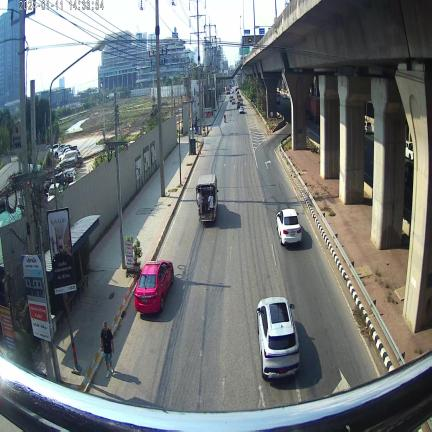car: (257, 297, 299, 379), (277, 209, 301, 245)
human: (101, 321, 114, 378)
taxi: (135, 260, 174, 313)
